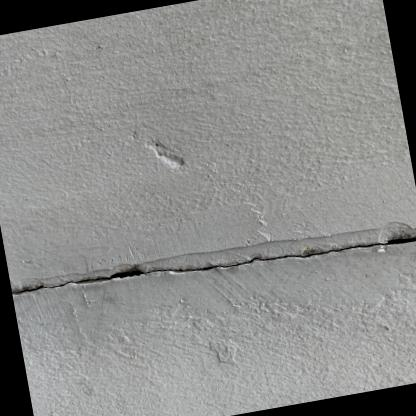crack: (11, 235, 416, 295)
